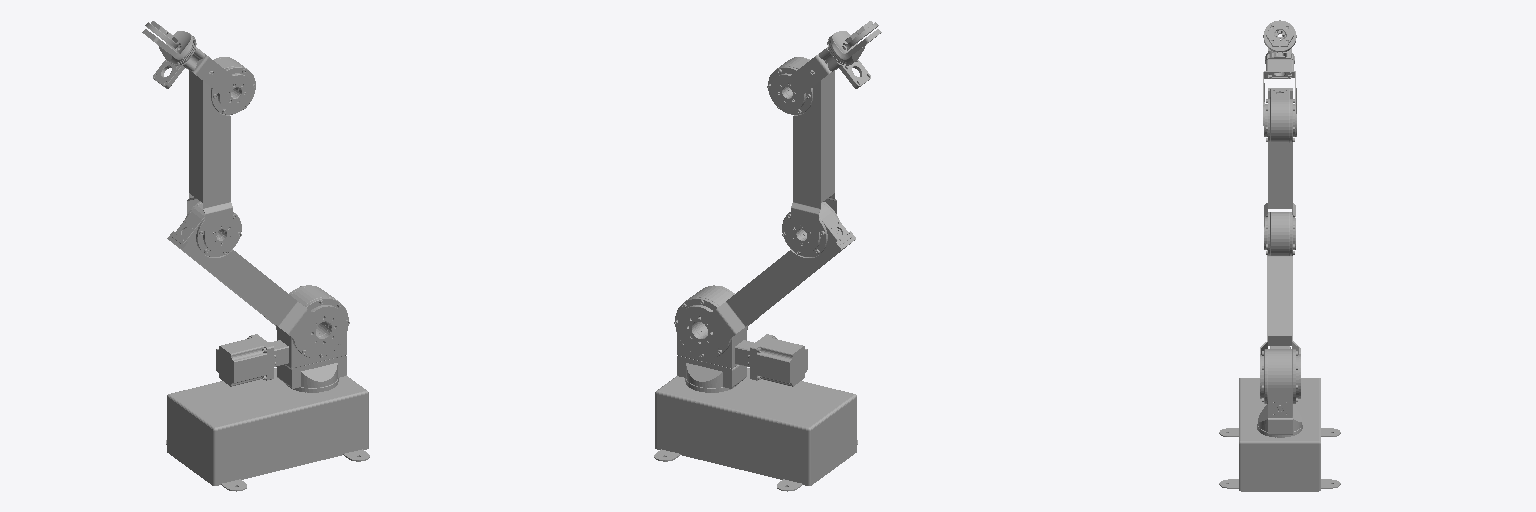
URDF robot description (robot):
<?xml version="1.0" ?>
<!-- =================================================================================== -->
<!-- |    This document was autogenerated by xacro from Parm.urdf.xacro                | -->
<!-- |    EDITING THIS FILE BY HAND IS NOT RECOMMENDED                                 | -->
<!-- =================================================================================== -->
<robot name="robot">
  <material name="silver">
    <color rgba="0.700 0.700 0.700 1.000"/>
  </material>
  <!-- World link must be defined before being referenced -->
  <link name="world"/>
  <link name="base_link">
    <visual>
      <origin rpy="0 0 0" xyz="0 0 0"/>
      <geometry>
        <mesh filename="package://parm_urdf/meshes/base_link.stl" scale="0.001 0.001 0.001"/>
      </geometry>
      <material name="silver"/>
    </visual>
    <collision>
      <origin rpy="0 0 0" xyz="0 0 0"/>
      <geometry>
        <mesh filename="package://parm_urdf/meshes/base_link.stl" scale="0.001 0.001 0.001"/>
      </geometry>
    </collision>
  </link>
  <link name="ax1_ax2_link_1">
    <visual>
      <origin rpy="0 0 0" xyz="0.0 0.0 0.0"/>
      <geometry>
        <mesh filename="package://parm_urdf/meshes/ax1_ax2_link_1.stl" scale="0.001 0.001 0.001"/>
      </geometry>
      <material name="silver"/>
    </visual>
    <collision>
      <origin rpy="0 0 0" xyz="0.0 0.0 0.0"/>
      <geometry>
        <mesh filename="package://parm_urdf/meshes/ax1_ax2_link_1.stl" scale="0.001 0.001 0.001"/>
      </geometry>
    </collision>
  </link>
  <link name="ax2_ax3_link_1">
    <visual>
      <origin rpy="0 0 0" xyz="0.0 0.0 -0.2017"/>
      <geometry>
        <mesh filename="package://parm_urdf/meshes/ax2_ax3_link_1.stl" scale="0.001 0.001 0.001"/>
      </geometry>
      <material name="silver"/>
    </visual>
    <collision>
      <origin rpy="0 0 0" xyz="0.0 0.0 -0.2017"/>
      <geometry>
        <mesh filename="package://parm_urdf/meshes/ax2_ax3_link_1.stl" scale="0.001 0.001 0.001"/>
      </geometry>
    </collision>
  </link>
  <link name="ax3_ax4_link_1">
    <visual>
      <origin rpy="0 0 0" xyz="0.2695 0.0 -0.218"/>
      <geometry>
        <mesh filename="package://parm_urdf/meshes/ax3_ax4_link_1.stl" scale="0.001 0.001 0.001"/>
      </geometry>
      <material name="silver"/>
    </visual>
    <collision>
      <origin rpy="0 0 0" xyz="0.2695 0.0 -0.218"/>
      <geometry>
        <mesh filename="package://parm_urdf/meshes/ax3_ax4_link_1.stl" scale="0.001 0.001 0.001"/>
      </geometry>
    </collision>
  </link>
  <link name="ax4_ax5_link_1">
    <visual>
      <origin rpy="0 0 1.5707963267948966" xyz="0.0303 0.0 0.03"/>
      <geometry>
        <mesh filename="package://parm_urdf/meshes/ax4_ax5_link_1.stl" scale="0.001 0.001 0.001"/>
      </geometry>
      <material name="silver"/>
    </visual>
    <collision>
      <origin rpy="0 0 1.5707963267948966" xyz="0.0303 0.0 0.03"/>
      <geometry>
        <mesh filename="package://parm_urdf/meshes/ax4_ax5_link_1.stl" scale="0.001 0.001 0.001"/>
      </geometry>
    </collision>
  </link>
  <link name="ax4_ax5_link_2">
    <visual>
      <origin rpy="-1.5707963267948966 0 0" xyz="0.18 0.0 -0.028"/>
      <geometry>
        <mesh filename="package://parm_urdf/meshes/ax4_ax5_link_2.stl" scale="0.001 0.001 0.001"/>
      </geometry>
      <material name="silver"/>
    </visual>
    <collision>
      <origin rpy="-1.5707963267948966 0 0" xyz="0.18 0.0 -0.028"/>
      <geometry>
        <mesh filename="package://parm_urdf/meshes/ax4_ax5_link_2.stl" scale="0.001 0.001 0.001"/>
      </geometry>
    </collision>
  </link>
  <link name="ax5_ax6_link_1">
    <visual>
      <origin rpy="-1.5707963267948966 0 0" xyz="0.18 0.0 -0.0273"/>
      <geometry>
        <mesh filename="package://parm_urdf/meshes/ax5_ax6_link_1.stl" scale="0.001 0.001 0.001"/>
      </geometry>
      <material name="silver"/>
    </visual>
    <collision>
      <origin rpy="-1.5707963267948966 0 0" xyz="0.18 0.0 -0.0273"/>
      <geometry>
        <mesh filename="package://parm_urdf/meshes/ax5_ax6_link_1.stl" scale="0.001 0.001 0.001"/>
      </geometry>
    </collision>
  </link>
  <link name="ax6_gripper_link_1">
    <visual>
      <origin rpy="-1.5707963267948966 0 0" xyz="0.3425 0.0001 -0.025"/>
      <geometry>
        <mesh filename="package://parm_urdf/meshes/ax6_gripper_link_1.stl" scale="0.001 0.001 0.001"/>
      </geometry>
      <material name="silver"/>
    </visual>
    <collision>
      <origin rpy="-1.5707963267948966 0 0" xyz="0.3425 0.0001 -0.025"/>
      <geometry>
        <mesh filename="package://parm_urdf/meshes/ax6_gripper_link_1.stl" scale="0.001 0.001 0.001"/>
      </geometry>
    </collision>
  </link>
  <link name="gripper_link">
    <visual>
      <origin rpy="0 -1.5707963267948966 0" xyz="0.0 0.0 0.077"/>
      <geometry>
        <mesh filename="package://parm_urdf/meshes/gripper_link.stl" scale="1 1 1"/>
      </geometry>
      <material name="silver"/>
    </visual>
    <collision>
      <origin rpy="0 -1.5707963267948966 0" xyz="0.0 0.0 0.077"/>
      <geometry>
        <mesh filename="package://parm_urdf/meshes/gripper_link.stl" scale="1 1 1"/>
      </geometry>
    </collision>
  </link>
  <link name="gripper_finger_link1">
    <visual>
      <origin rpy="0 -1.5707963267948966 0" xyz="0.0 0.015 0.045"/>
      <geometry>
        <mesh filename="package://parm_urdf/meshes/gripper_finger_link1.stl" scale="1 1 1"/>
      </geometry>
      <material name="silver"/>
    </visual>
    <collision>
      <origin rpy="0 -1.5707963267948966 0" xyz="0.0 0.015 0.045"/>
      <geometry>
        <mesh filename="package://parm_urdf/meshes/gripper_finger_link1.stl" scale="1 1 1"/>
      </geometry>
    </collision>
  </link>
  <link name="gripper_finger_link2">
    <visual>
      <origin rpy="0 -1.5707963267948966 3.141592653589793" xyz="0.0 0.015 0.045"/>
      <geometry>
        <mesh filename="package://parm_urdf/meshes/gripper_finger_link2.stl" scale="1 1 1"/>
      </geometry>
      <material name="silver"/>
    </visual>
    <collision>
      <origin rpy="0 -1.5707963267948966 3.141592653589793" xyz="0.0 0.015 0.045"/>
      <geometry>
        <mesh filename="package://parm_urdf/meshes/gripper_finger_link2.stl" scale="1 1 1"/>
      </geometry>
    </collision>
  </link>
  <!-- Joints -->
  <joint name="base_to_world" type="fixed">
    <parent link="world"/>
    <child link="base_link"/>
    <origin rpy="0 0 0" xyz="0 0 0"/>
  </joint>
  <joint name="revolute_1" type="revolute">
    <origin rpy="0 0 0" xyz="0.0 0.0 0.0"/>
    <parent link="base_link"/>
    <child link="ax1_ax2_link_1"/>
    <axis xyz="0.0 0.0 -1.0"/>
    <limit effort="30" lower="0.0" upper="6.283185307179586" velocity="1.01" acceleration="1.01"/>
  </joint>
  <joint name="revolute_2" type="revolute">
    <origin rpy="0 0.7853981633974483 0" xyz="0.0 0.0 0.202"/>
    <parent link="ax1_ax2_link_1"/>
    <child link="ax2_ax3_link_1"/>
    <axis xyz="0.0 1.0 0.0"/>
    <limit effort="30" lower="0.0" upper="2.356194490192345" velocity="1.01" acceleration="1.01"/>
  </joint>
  <joint name="revolute_3" type="revolute">
    <origin rpy="0 0.7853981633974483 0" xyz="-0.2695 0.0 0.0165"/>
    <parent link="ax2_ax3_link_1"/>
    <child link="ax3_ax4_link_1"/>
    <axis xyz="0.0 1.0 0.0"/>
    <limit effort="30" lower="0.0" upper="3.141592653589793" velocity="1.01" acceleration="1.01"/>
  </joint>
  <joint name="revolute_4" type="revolute">
    <origin rpy="0 -0.7853981633974483 0" xyz="-0.2387 0.0 0.0255"/>
    <parent link="ax3_ax4_link_1"/>
    <child link="ax4_ax5_link_1"/>
    <axis xyz="0.0 1.0 0.0"/>
    <limit effort="30" lower="0.0" upper="3.141592653589793" velocity="1.01" acceleration="1.01"/>
  </joint>
  <joint name="fixed_con" type="fixed">
    <origin rpy="0 0 0" xyz="0.0 0.0 0.0"/>
    <parent link="ax4_ax5_link_1"/>
    <child link="ax4_ax5_link_2"/>
  </joint>
  <joint name="revolute_5" type="revolute">
    <origin rpy="0 0 0" xyz="0.0 0.0 0.0"/>
    <parent link="ax4_ax5_link_2"/>
    <child link="ax5_ax6_link_1"/>
    <axis xyz="1.0 0.0 0.0"/>
    <limit effort="30" lower="0.0" upper="6.283185307179586" velocity="1.01" acceleration="1.01"/>
  </joint>
  <joint name="revolute_6" type="revolute">
    <origin rpy="0 0 0" xyz="-0.163 0.0 0.0"/>
    <parent link="ax5_ax6_link_1"/>
    <child link="ax6_gripper_link_1"/>
    <axis xyz="0.0 0.0 1.0"/>
    <limit effort="30" lower="0.0" upper="3.141592653589793" velocity="1.01" acceleration="1.01"/>
  </joint>
  <joint name="fixed_gripper" type="fixed">
    <origin rpy="0 0 0" xyz="0.0 0.0 0.0"/>
    <parent link="ax6_gripper_link_1"/>
    <child link="gripper_link"/>
  </joint>
  <joint name="prismatic_1" type="prismatic">
    <origin rpy="0 0 0" xyz="0.0 0.0 0.067"/>
    <parent link="gripper_link"/>
    <child link="gripper_finger_link1"/>
    <axis xyz="0.0 1.0 0.0"/>
    <limit effort="30" lower="0.0" upper="0.05" velocity="0.1" acceleration="0.1"/>
  </joint>
  <joint name="prismatic_2" type="prismatic">
    <origin rpy="0 0 3.141592653589793" xyz="0.0 0.0 0.067"/>
    <parent link="gripper_link"/>
    <child link="gripper_finger_link2"/>
    <axis xyz="0.0 1.0 0.0"/>
    <limit effort="30" lower="0.0" upper="0.05" velocity="0.1" acceleration="0.1"/>
  </joint>
</robot>

--- What the picture shows (computed from the rendered views, not written in the file) ---
Views: 3 orthographic renders of the robot side by side, from view 1: azimuth 30°, elevation 25°; view 2: azimuth 150°, elevation 25°; view 3: azimuth 270°, elevation 25°.
Model robot with 12 links and 11 joints (6 revolute, 2 prismatic, 3 fixed), rooted at world, posed all joints at 0.
Links seen in each view (by area): view 1: base_link, ax2_ax3_link_1, ax3_ax4_link_1, ax1_ax2_link_1, ax4_ax5_link_1, ax5_ax6_link_1, ax4_ax5_link_2; view 2: base_link, ax2_ax3_link_1, ax3_ax4_link_1, ax1_ax2_link_1, ax4_ax5_link_1, ax5_ax6_link_1, ax4_ax5_link_2; view 3: base_link, ax2_ax3_link_1, ax1_ax2_link_1, ax3_ax4_link_1, ax6_gripper_link_1.
Boxes of the visible links, left/top/right/bottom form: base_link: left=166, top=368, right=369, bottom=491; ax2_ax3_link_1: left=167, top=202, right=345, bottom=353; ax3_ax4_link_1: left=187, top=57, right=255, bottom=252; ax1_ax2_link_1: left=216, top=285, right=349, bottom=392; ax4_ax5_link_1: left=186, top=54, right=252, bottom=110; ax5_ax6_link_1: left=142, top=29, right=196, bottom=65; ax4_ax5_link_2: left=153, top=47, right=204, bottom=88; base_link: left=654, top=368, right=857, bottom=491; ax2_ax3_link_1: left=678, top=202, right=855, bottom=353; ax3_ax4_link_1: left=767, top=57, right=836, bottom=252; ax1_ax2_link_1: left=674, top=285, right=807, bottom=392; ax4_ax5_link_1: left=771, top=52, right=837, bottom=110; ax5_ax6_link_1: left=827, top=29, right=881, bottom=65; ax4_ax5_link_2: left=819, top=47, right=870, bottom=88; base_link: left=1219, top=378, right=1340, bottom=491; ax2_ax3_link_1: left=1260, top=212, right=1300, bottom=398; ax1_ax2_link_1: left=1257, top=346, right=1302, bottom=437; ax3_ax4_link_1: left=1264, top=88, right=1295, bottom=249; ax6_gripper_link_1: left=1263, top=20, right=1296, bottom=51.
Size in the robot's own frame: 0.3554 by 0.22 by 0.78 metres.
8 mesh visuals loaded from 11 distinct referenced files (8 binary STL); not drawn: 3 (reference not matched to a file when rendering).
